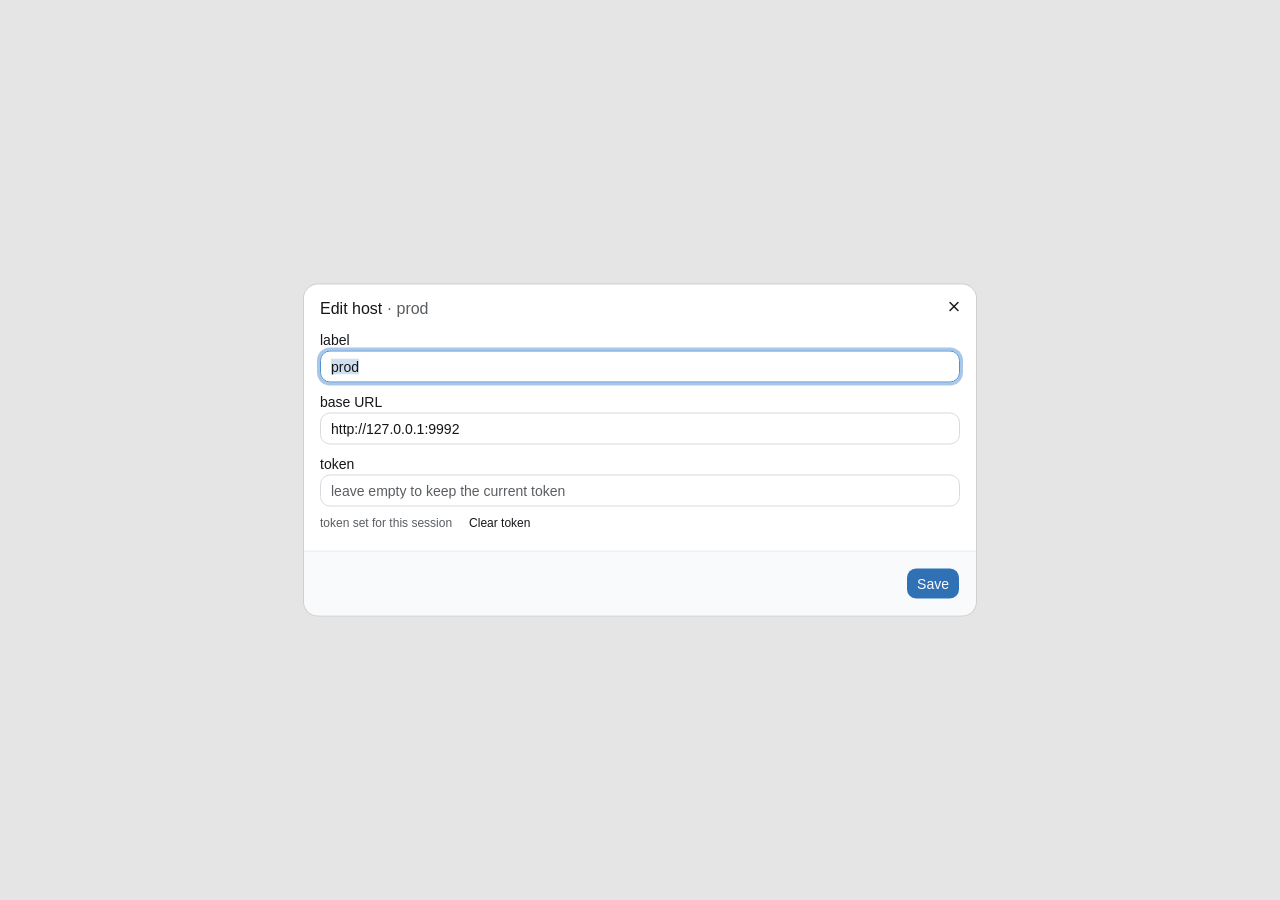
Scenario: ServerDialog › clears the token on demand and reports it as unset
This screenshot has width=1280, height=900.
What coordinates should you click on to do the following:
click the button "Clear token"
I would click on:
 (500, 522)
Its box is [460,510,540,534].
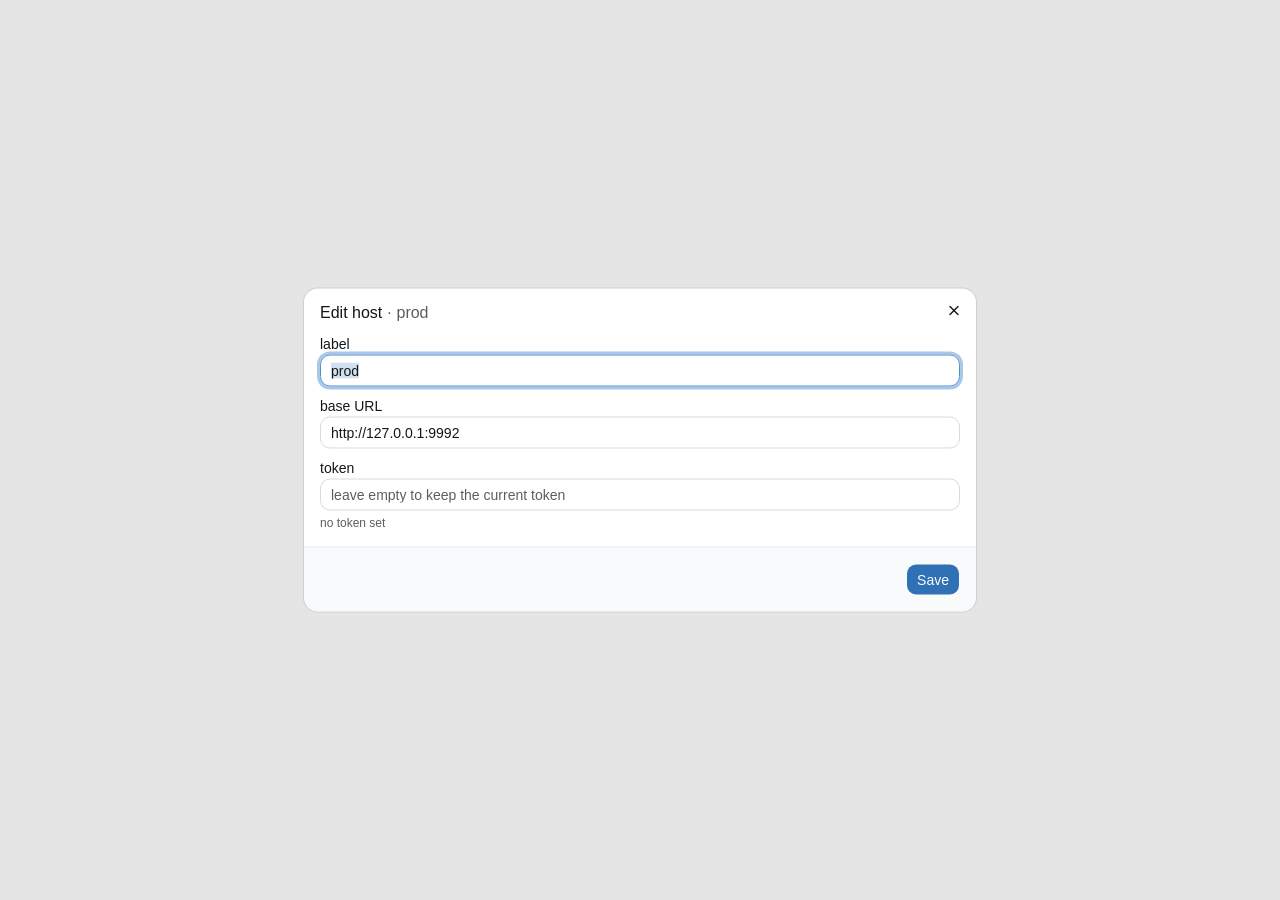
Result: the text "no token set" is shown at [320,514,385,530]
